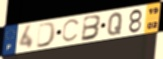4: (17, 23, 35, 52)
8: (129, 8, 143, 34)
B: (80, 14, 103, 43)
C: (61, 18, 82, 44)
D: (35, 21, 58, 49)
Q: (106, 12, 124, 37)
